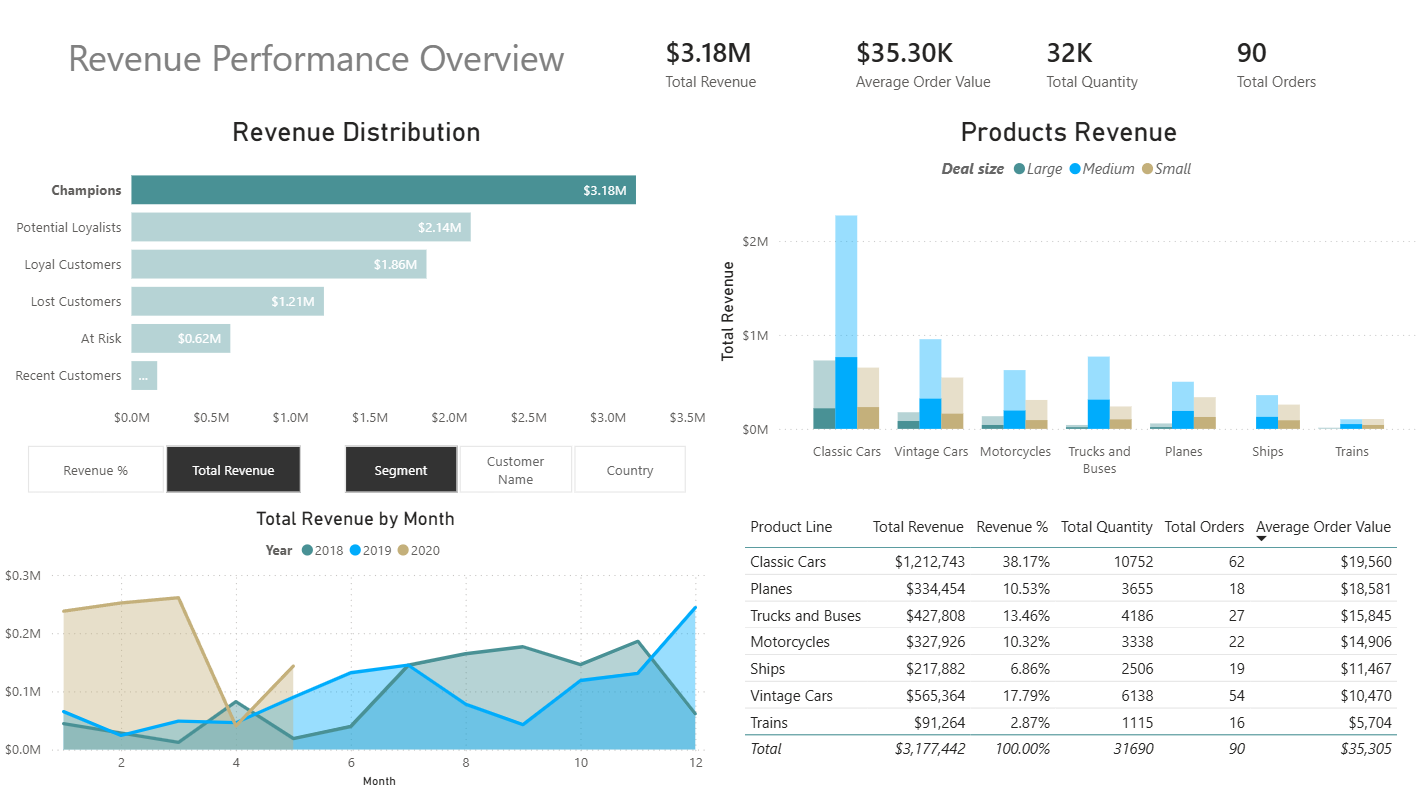

The page's visual inventory and layout, read from the dashboard file:
{"tool":"powerbi","page":{"name":"Dashboard","canvas":[1280,720],"ordinal":0},"visuals":[{"type":"barChart","title":"Revenue Distribution","fields":{"Category":["public rfm_segments.segment"],"Y":["_Measures.Total Revenue"]},"box":[0.9,112.2,640.1,289.1],"z":0},{"type":"slicer","fields":{"Values":["Select Category.Select Category"]},"box":[284.6,401.3,356.4,55.7],"z":1000},{"type":"slicer","fields":{"Values":["Select Type.Select Type"]},"box":[0,401.3,295.4,55.7],"z":2000},{"type":"lineChart","title":"Total Revenue by Month","fields":{"Category":["warehouse dim_date.month"],"Series":["warehouse dim_date.year"],"Y":["_Measures.Total Revenue"]},"box":[0,463.2,640.1,256.8],"z":3000},{"type":"clusteredColumnChart","title":"Products Revenue","fields":{"Category":["warehouse dim_product.productline"],"Series":["warehouse fact_sales.dealsize"],"Y":["_Measures.Total Revenue"]},"box":[641,112.2,639.2,332.2],"z":4000},{"type":"tableEx","fields":{"Values":["warehouse dim_product.productline","_Measures.Total Revenue","_Measures.Revenue Share % ProductLine","_Measures.Total Quantity","_Measures.Total Orders","_Measures.Average Order Value"]},"box":[663.3,463,616.7,256.8],"z":5000},{"type":"cardVisual","fields":{"Data":["_Measures.Total Revenue","_Measures.Average Order Value","_Measures.Total Quantity","_Measures.Total Orders"]},"box":[569.2,0,711,127.5],"z":6000},{"type":"textbox","box":[0,31.4,569.2,64.6],"z":7000}]}

Visuals, with their boxes in screenshot pixels (x1, y1, x2, y2), scaled from the page's 1280x720 canvas onto the 1423x792 screenshot:
"Revenue Distribution" barChart: (x1=1, y1=123, x2=713, y2=441)
slicer - Select Category.Select Category: (x1=316, y1=441, x2=713, y2=503)
slicer - Select Type.Select Type: (x1=0, y1=441, x2=328, y2=503)
"Total Revenue by Month" lineChart: (x1=0, y1=510, x2=712, y2=791)
"Products Revenue" clusteredColumnChart: (x1=713, y1=123, x2=1422, y2=489)
tableEx - warehouse dim_product.productline x _Measures.Total Revenue: (x1=737, y1=509, x2=1422, y2=791)
cardVisual - _Measures.Total Revenue x _Measures.Average Order Value: (x1=633, y1=0, x2=1422, y2=140)
textbox: (x1=0, y1=35, x2=633, y2=106)
